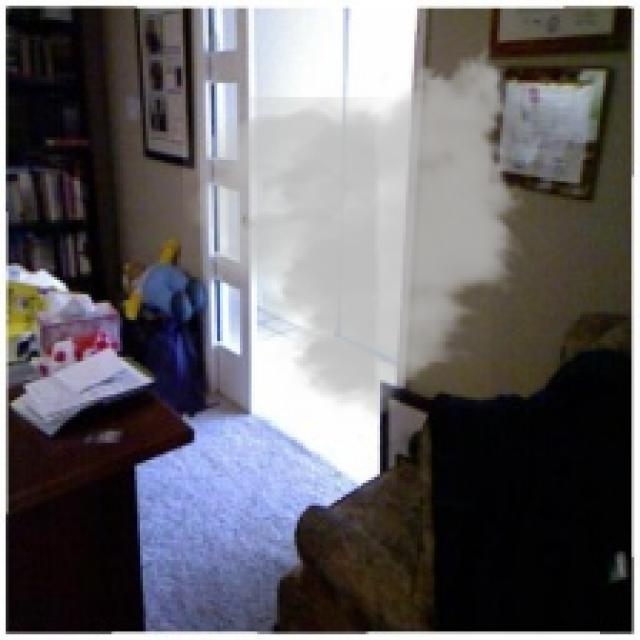smoke: (183, 37, 528, 429)
